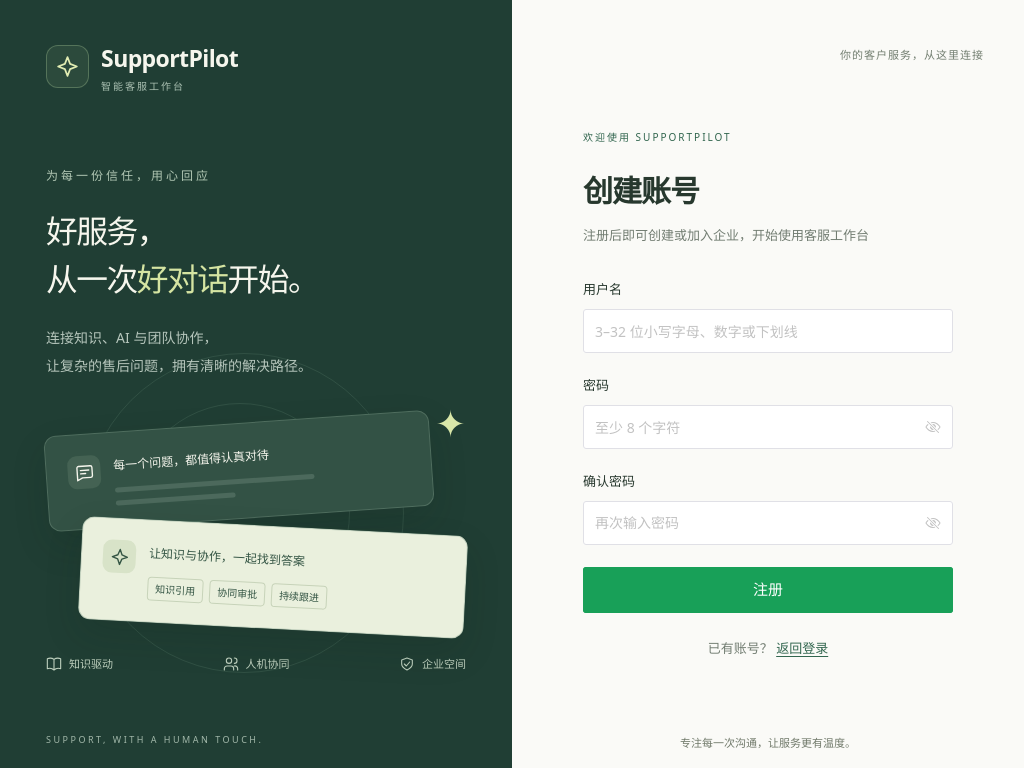
Test case: 注册页本地校验 › 密码过短：本地拦截提示
Type "alice" into the field with placeholder "3–32 位小写字母、数字或下划线" at (768, 331), box [595,309,941,353]
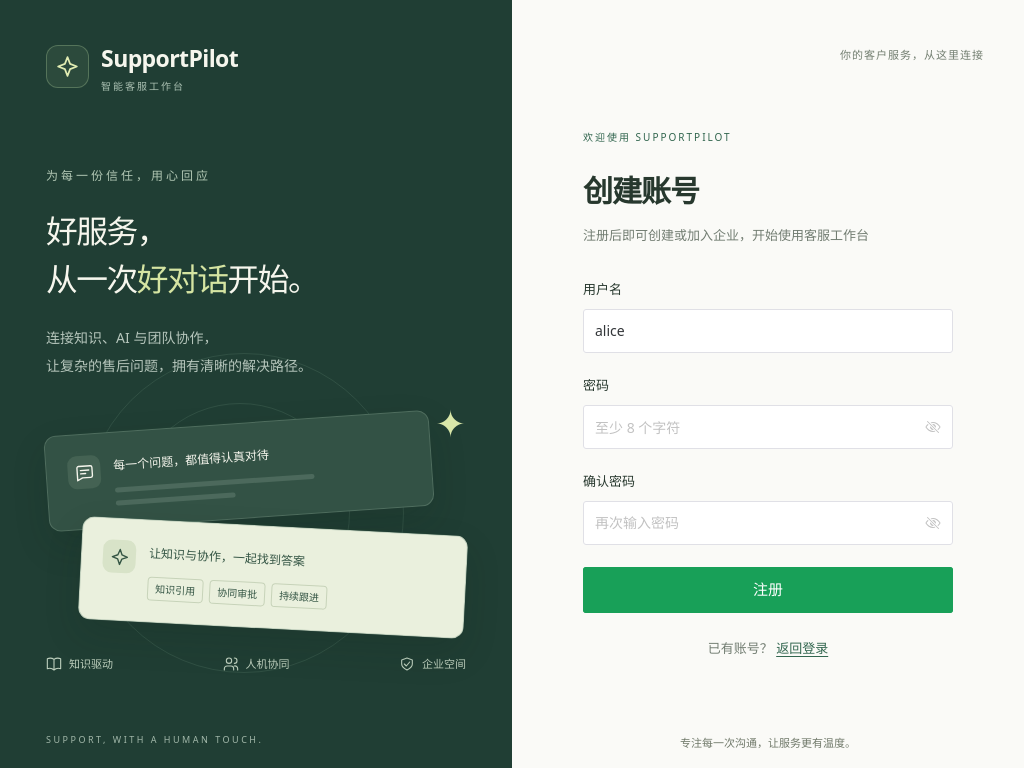
Type "123" into the password field with placeholder "至少 8 个字符" at (758, 427), box [595,405,921,449]
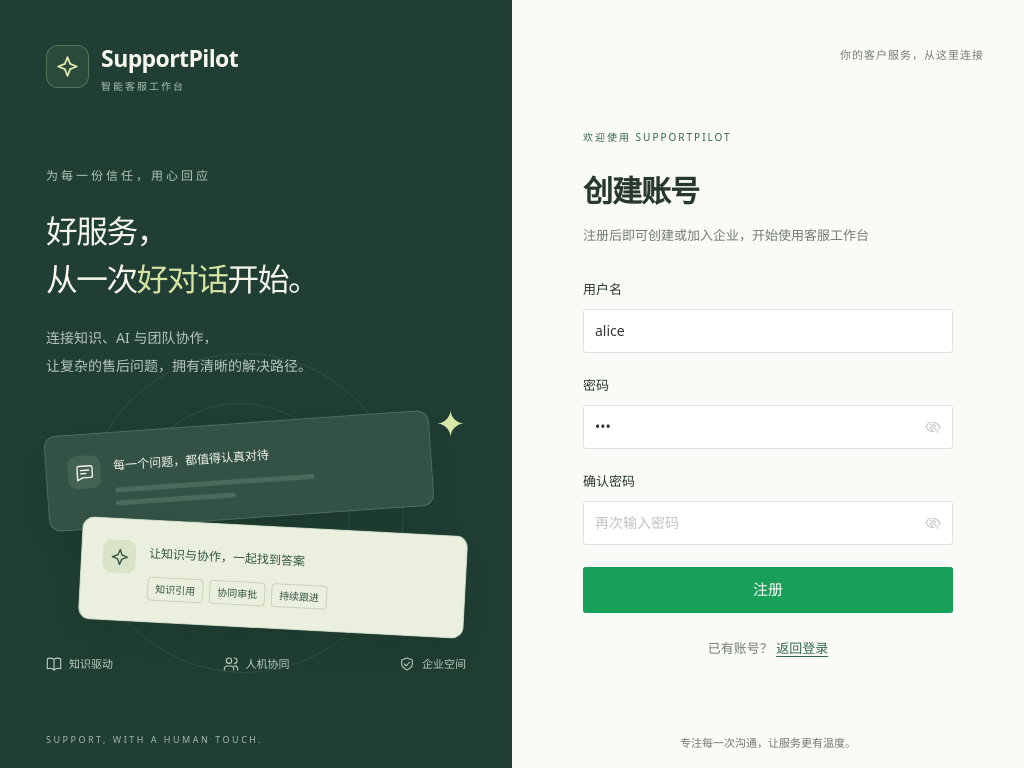
Type "123" into the password field with placeholder "再次输入密码" at (758, 523), box [595,501,921,545]
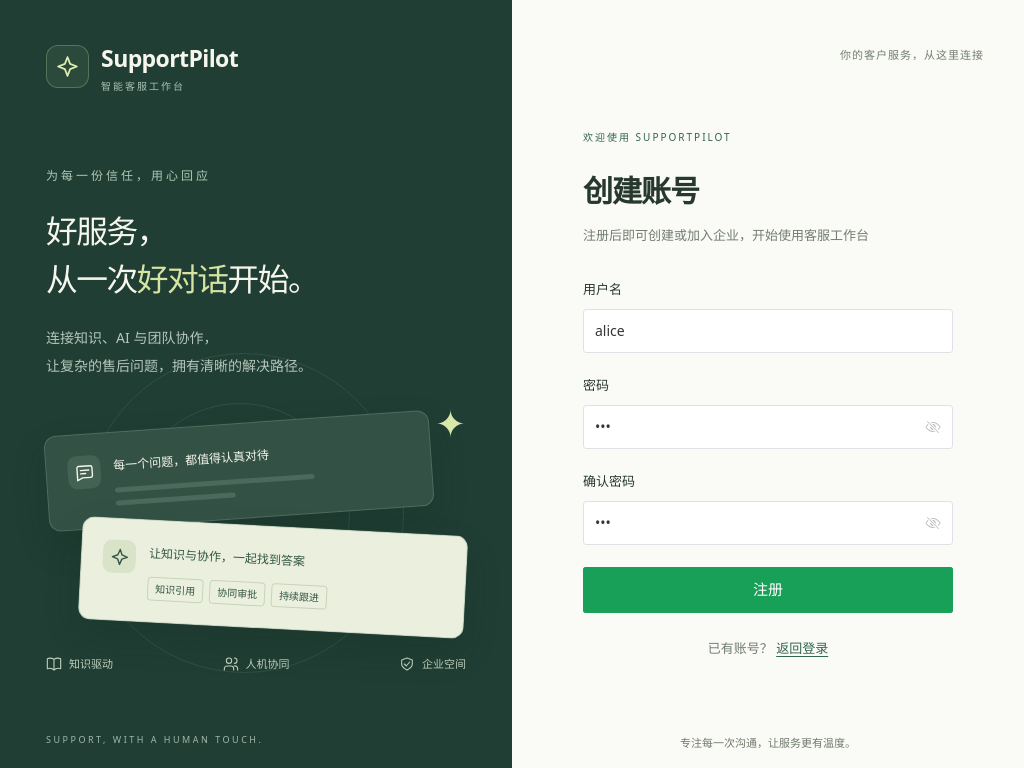
Click the button "注册" at (768, 590), box [583,567,953,613]
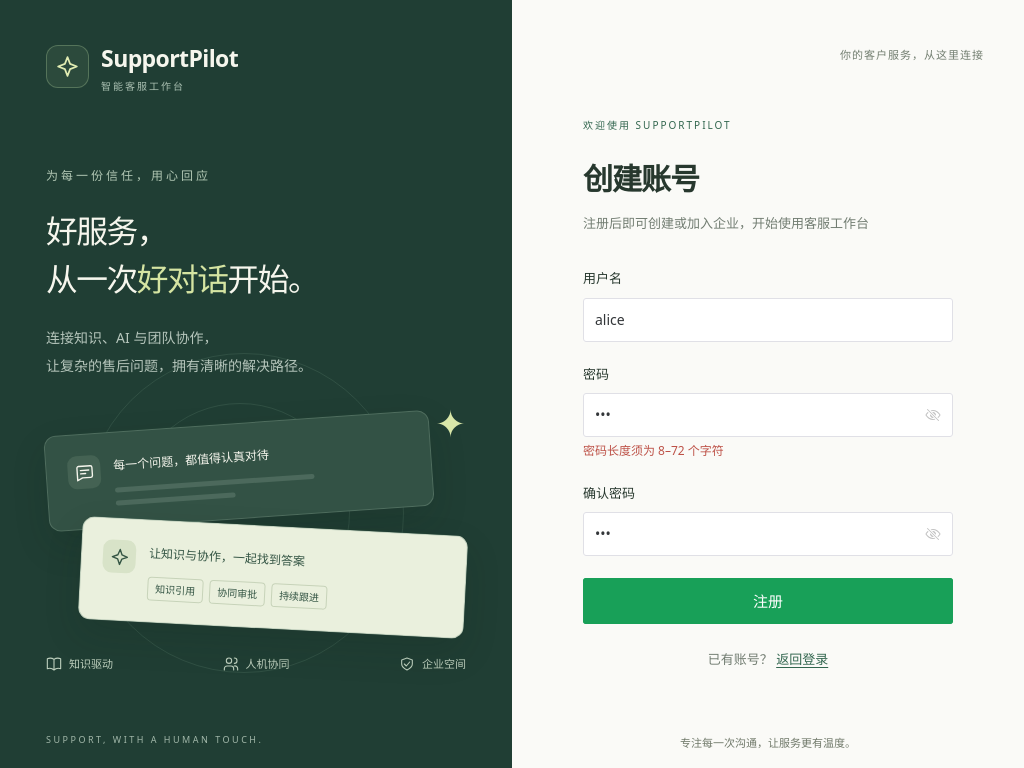
Result: the text "密码长度须为 8–72 个字符" is shown at [583,442,724,459]
